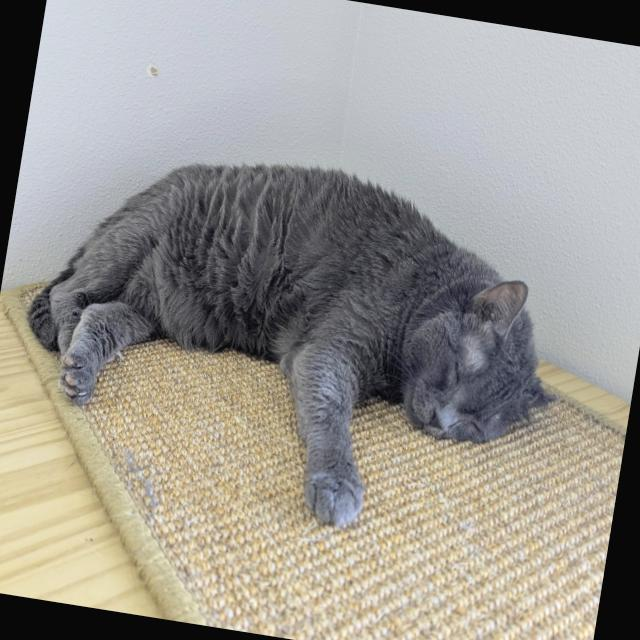russian_blue_cat: (386, 255, 573, 470)
